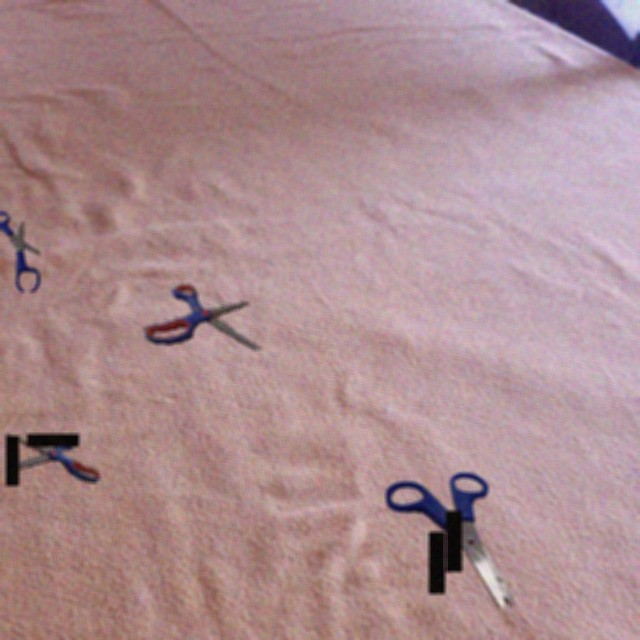scissors: (386, 472, 513, 608), (143, 284, 262, 350), (6, 433, 100, 486), (0, 211, 41, 292)
